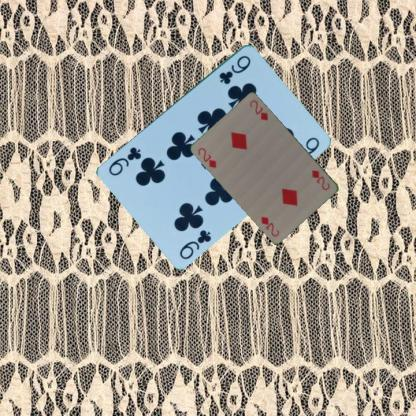2d: (309, 166, 331, 192), (195, 145, 218, 169)
9c: (216, 52, 252, 86), (176, 226, 212, 260)
